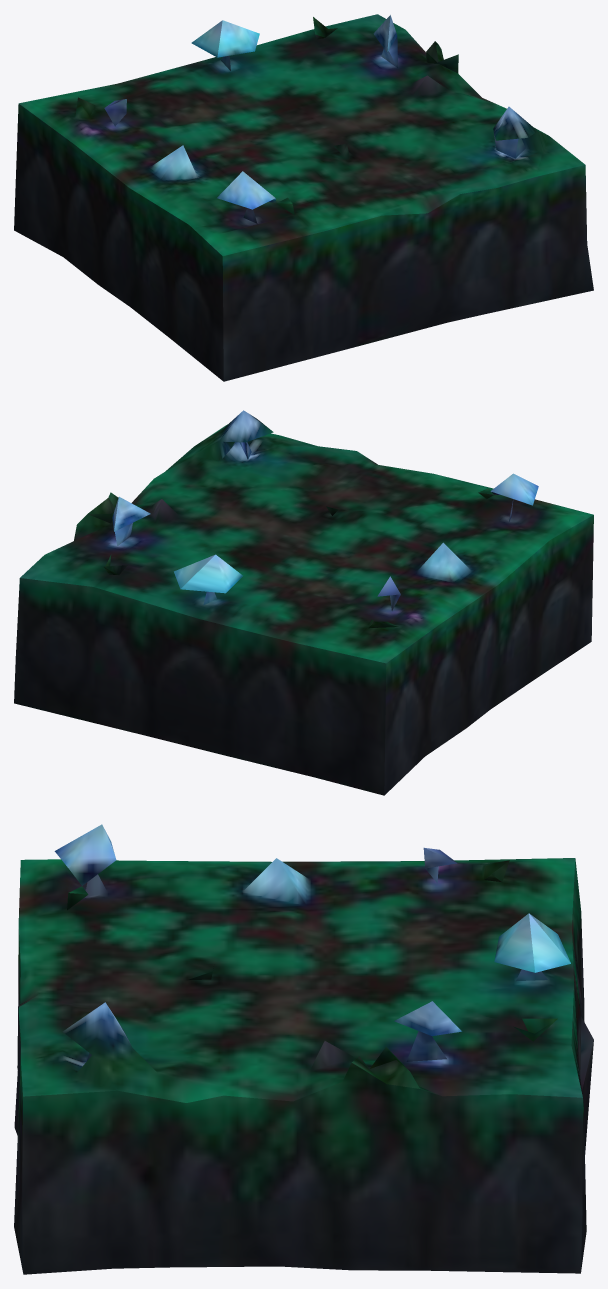
Rendered from b_mycelium_sol_2.glb.
3 views of the same model, one above another, from view 1: azimuth 30°, elevation 25°; view 2: azimuth 150°, elevation 25°; view 3: azimuth 270°, elevation 25° (orthographic). The views are drawn at different scales.
Parts seen in each view (by area): view 1: geometry_0; view 2: geometry_0; view 3: geometry_0.
Boxes of the visible parts, left/top/right/bottom form: geometry_0: left=14, top=14, right=593, bottom=381; geometry_0: left=14, top=410, right=593, bottom=795; geometry_0: left=14, top=824, right=593, bottom=1274.
Bounding box in the file's own units: 1 × 0.4638 × 1.
1 material, 1 textured.
